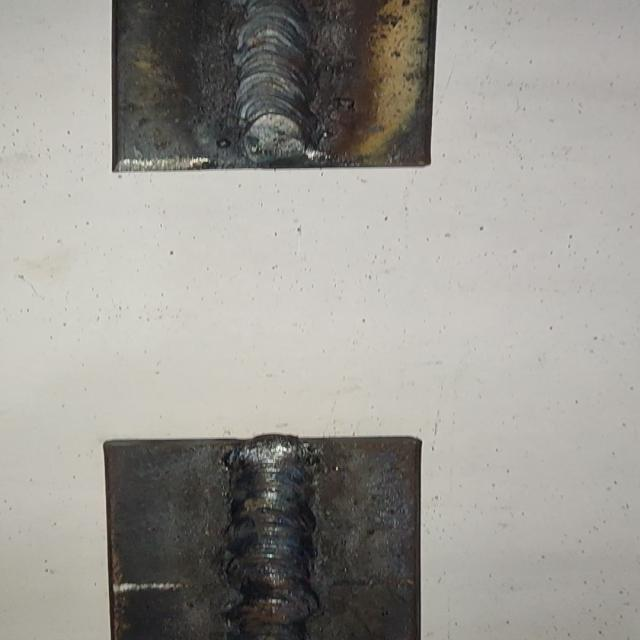Good Weld: (232, 441, 313, 640), (238, 0, 318, 157)
